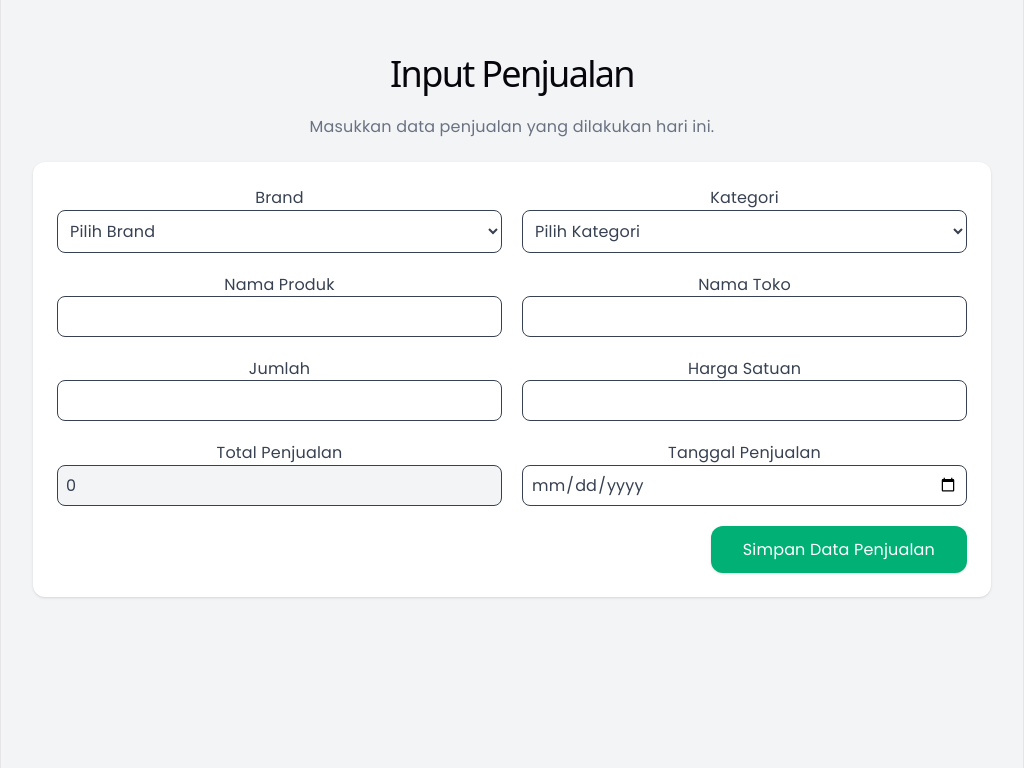
White Box Testing - Input Penjualan HEBEPKU › WB-IP05: menghitung ulang total saat jumlah berubah
Type "20000" into the number field below "Harga Satuan".
click(744, 401); type("20000")  # box [522, 380, 967, 421]
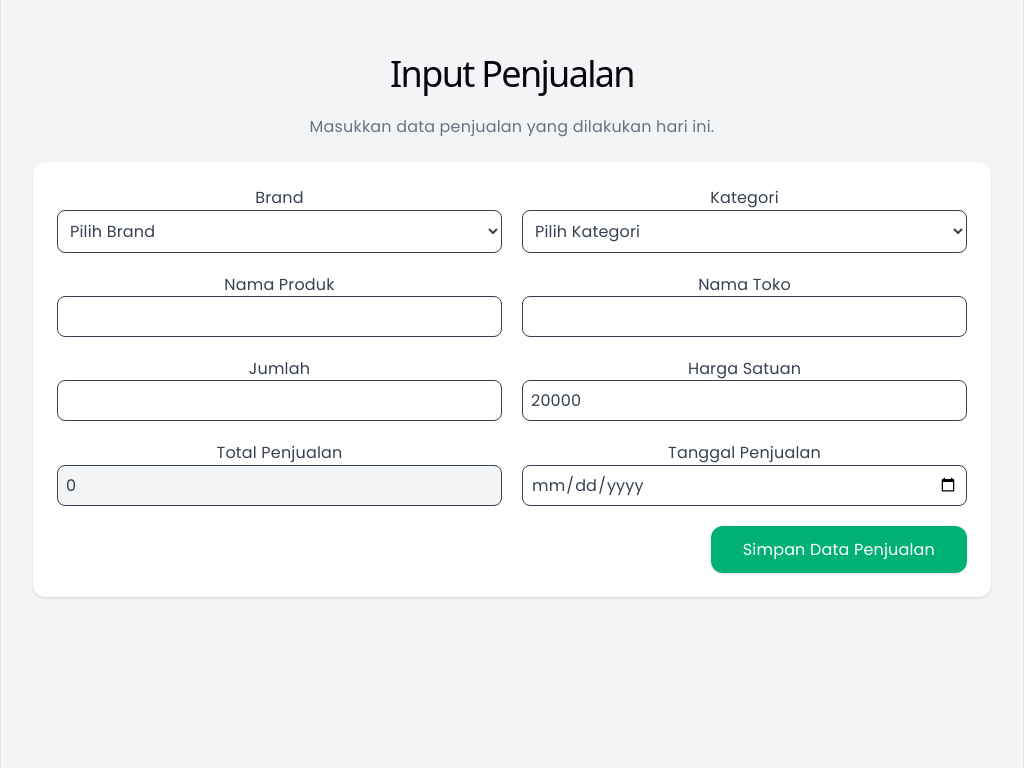
Type "4" into the number field below "Jumlah".
click(280, 401); type("4")  # box [57, 380, 502, 421]
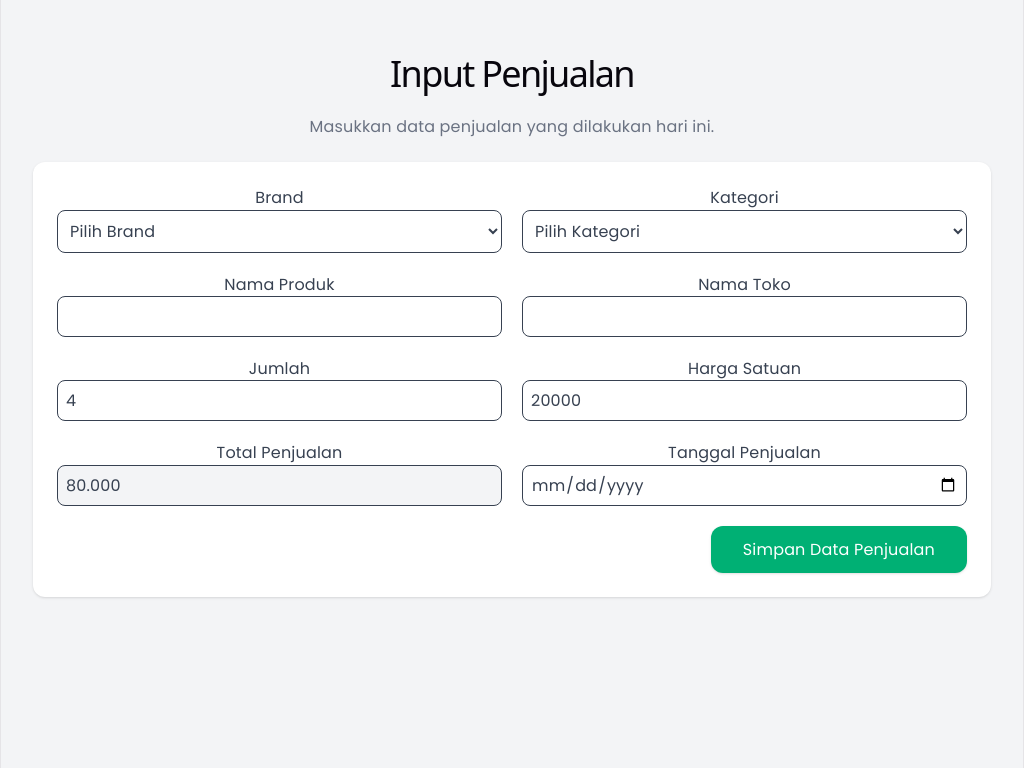
Now the field below "Total Penjualan" holds "80.000", box [57, 465, 502, 506]
